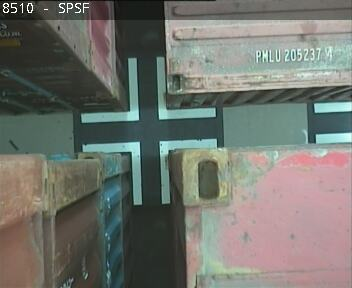groundmarker_1: (79, 54, 216, 124), (81, 137, 215, 204)
